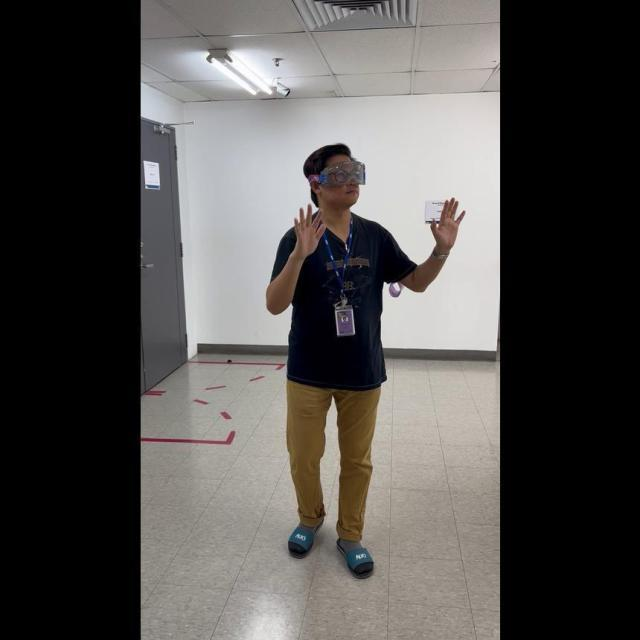bare_hand: (428, 192, 464, 252), (290, 199, 323, 253)
